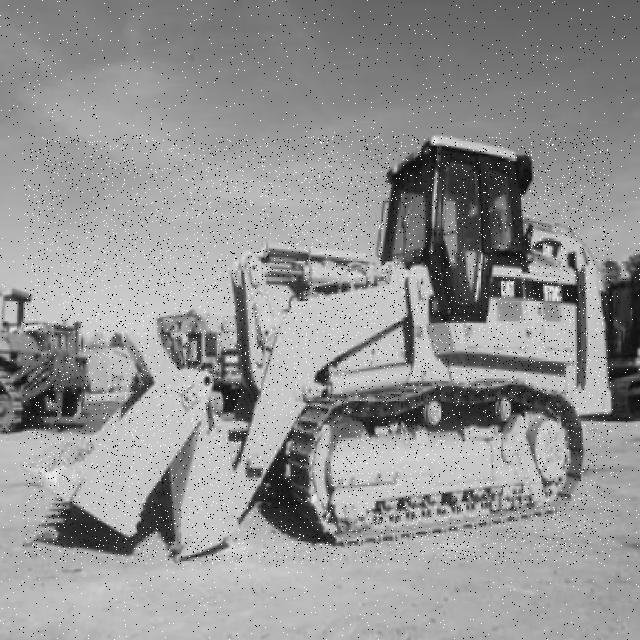Construction Equipment: (23, 135, 614, 564)
